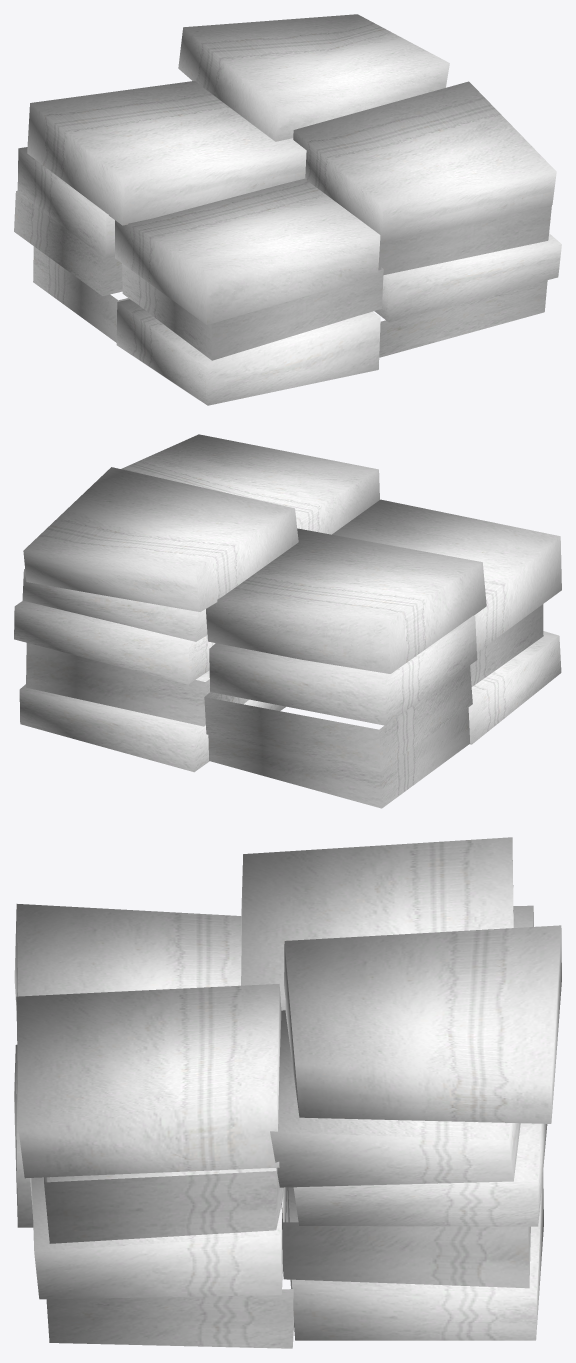
Rendered from p_rus_towel_stack_lrg_lod2.glb.
3 renders of one model, top to bottom at view 1: azimuth 30°, elevation 25°; view 2: azimuth 150°, elevation 25°; view 3: azimuth 270°, elevation 25°, orthographic. The views are drawn at different scales.
Parts seen in each view (by area): view 1: surf0; view 2: surf0; view 3: surf0.
Part boxes in pixels (box(x1,y1,x2,y2)): surf0: box(14, 14, 561, 405); surf0: box(14, 434, 561, 808); surf0: box(14, 837, 561, 1348).
Size of the model in its own units: 24.38 by 12.94 by 21.61.
